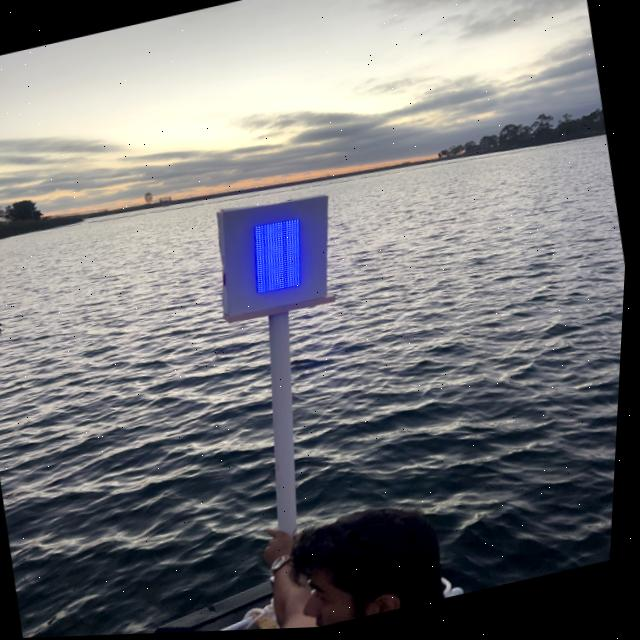led: (228, 197, 334, 318)
